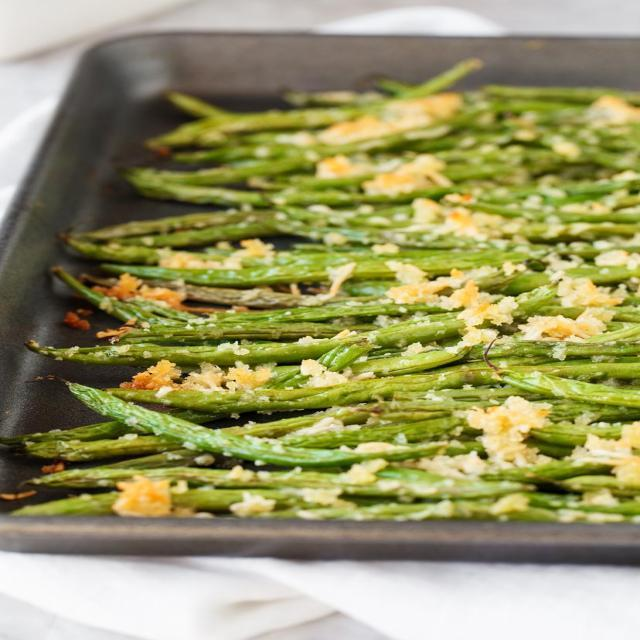Beans: (0, 77, 639, 526)
